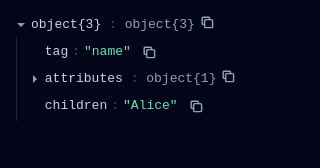
Test case: StructurePreview › expands XML attributes when toggled
Expected: the element with test id "structure-preview" shows "\"Alice\"", x1=123 y1=98 x2=178 y2=113
Step 1. Click the button named "expand attributes" → (35, 79), box x1=29 y1=73 x2=41 y2=85
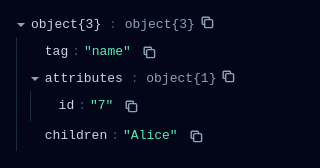
Result: the element with test id "structure-preview" shows "id" at x1=59 y1=98 x2=74 y2=113
Result: the element with test id "structure-preview" shows "\"7\"" at x1=90 y1=98 x2=113 y2=113
